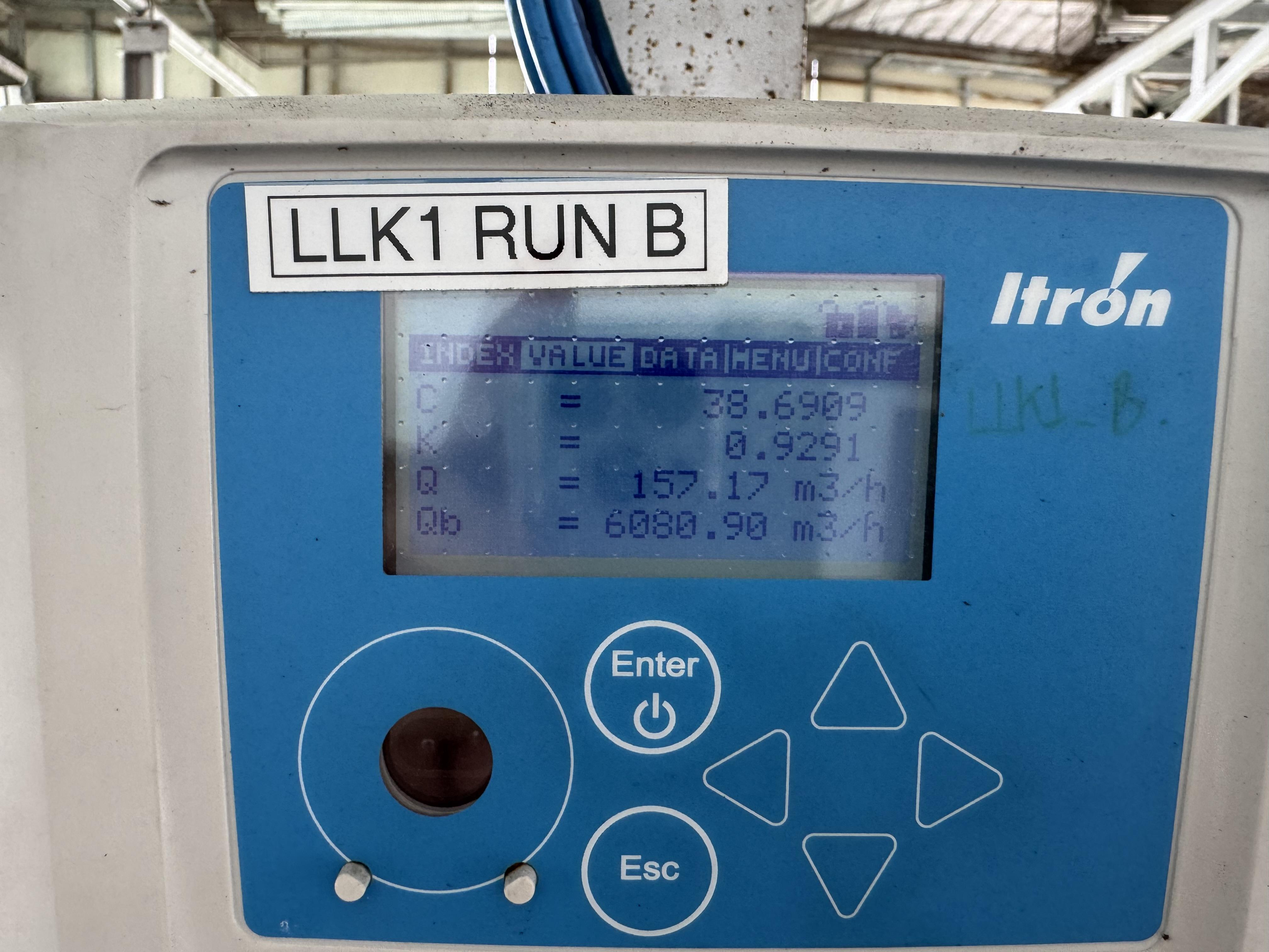digital_screen: (383, 274, 946, 586)
